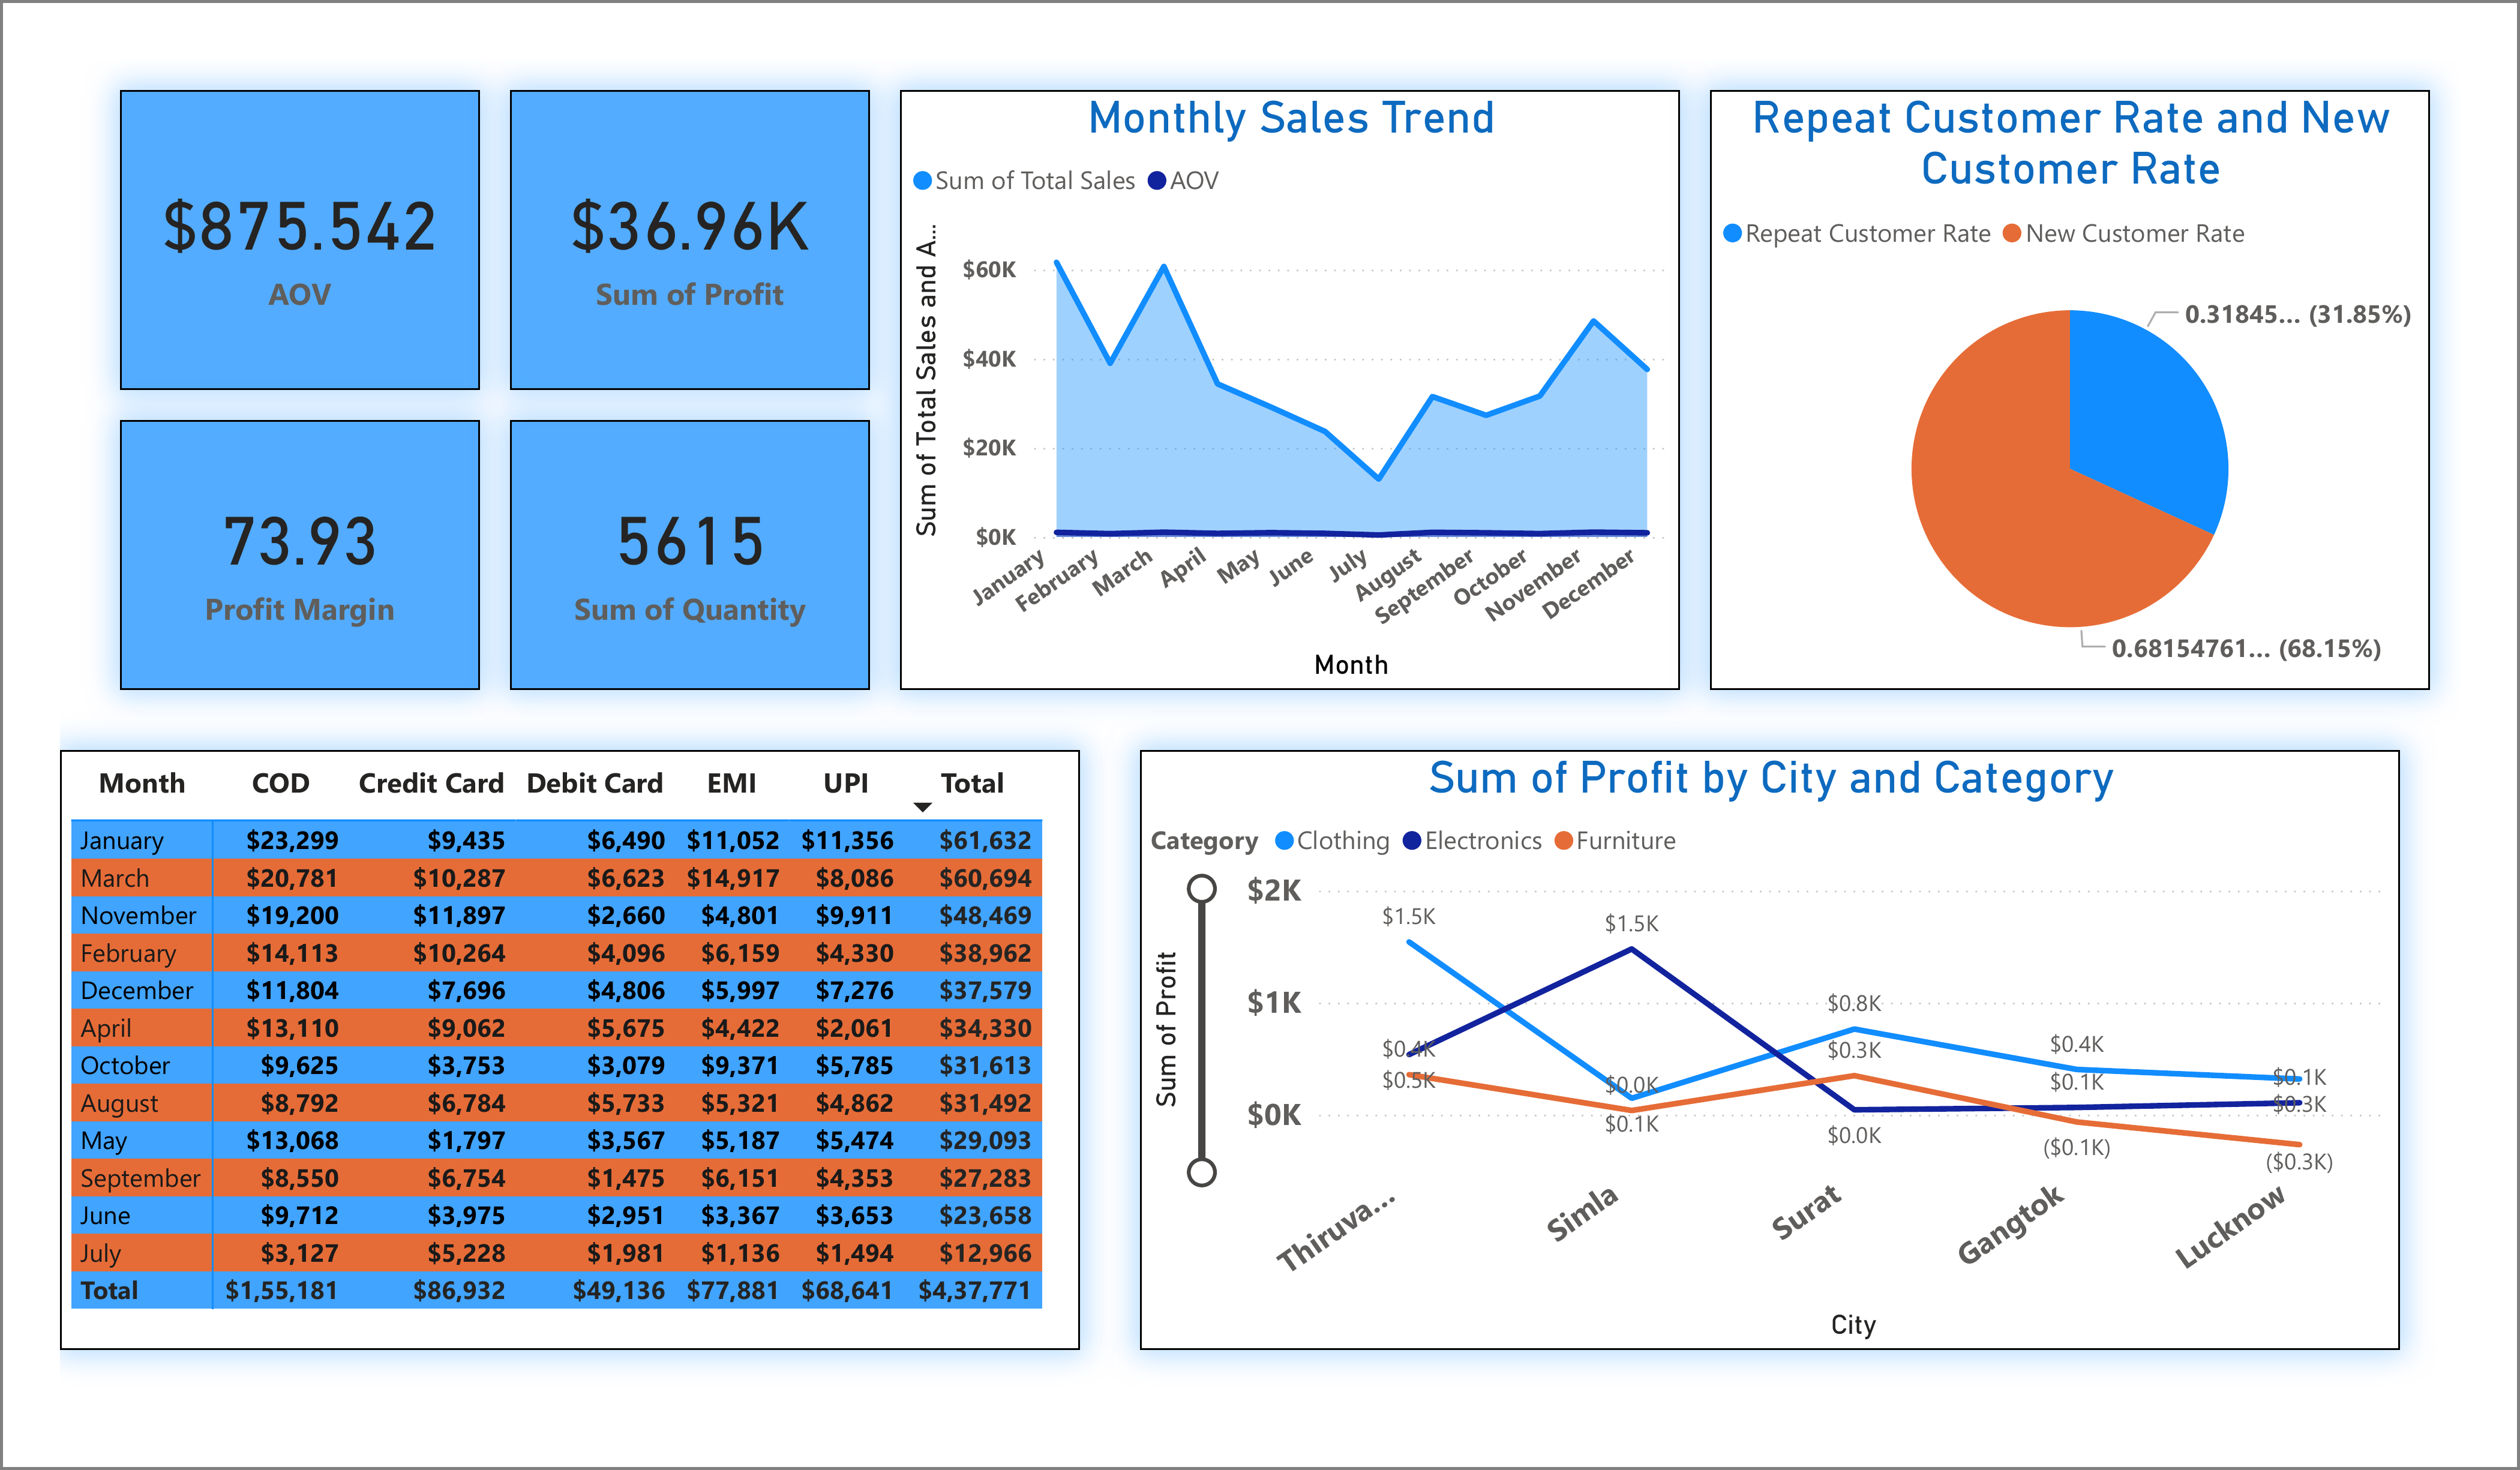

Layout of this report page (visuals, bound fields, positions):
{"tool":"powerbi","page":{"name":"Page 2","canvas":[1280,720],"ordinal":1},"visuals":[{"type":"lineChart","title":"Monthly Sales Trend","fields":{"Category":["data (2).Order Date.Variation.Date Hierarchy.Month"],"Y":["Sum(data.Total Sales)","data.AOV"]},"box":[448,16,416,320],"z":0},{"type":"pivotTable","fields":{"Rows":["data (2).Order Date.Variation.Date Hierarchy.Month"],"Values":["Sum(data.Total Sales)"],"Columns":["data.PaymentMode"]},"box":[0,368,544,320],"z":1000},{"type":"pieChart","fields":{"Y":["data.Repeat Customer Rate","data.New Customer Rate"]},"box":[880,16,384,320],"z":2000},{"type":"card","fields":{"Values":["data.AOV"]},"box":[32,16,192,160],"z":3000},{"type":"card","fields":{"Values":["data.Profit Margin"]},"box":[32,192,192,144],"z":4000},{"type":"lineChart","fields":{"Category":["data (2).City"],"Y":["Sum(data.Profit)"],"Series":["data.Category"]},"box":[576,368,672,320],"z":5000},{"type":"card","fields":{"Values":["Sum(data.Quantity)"]},"box":[240,192,192,144],"z":6000},{"type":"card","fields":{"Values":["Sum(data.Profit)"]},"box":[240,16,192,160],"z":7000}]}

Visuals, with their boxes in screenshot pixels (x1, y1, x2, y2):
"Monthly Sales Trend" lineChart: 892,82,1670,682
pivotTable - data (2).Order Date.Variation.Date Hierarchy.Month x Sum(data.Total Sales): 53,742,1071,1341
pieChart - data.Repeat Customer Rate x data.New Customer Rate: 1700,82,2420,682
card - data.AOV: 112,82,472,382
card - data.Profit Margin: 112,412,472,682
lineChart - data (2).City x Sum(data.Profit): 1131,742,2390,1341
card - Sum(data.Quantity): 502,412,862,682
card - Sum(data.Profit): 502,82,862,382
